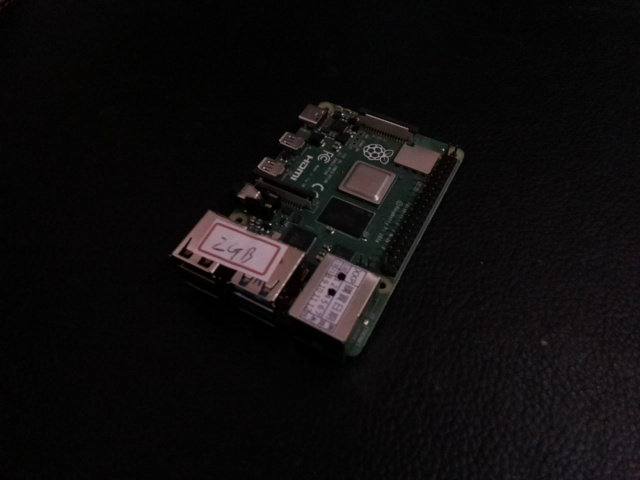pi4: (151, 61, 469, 379)
